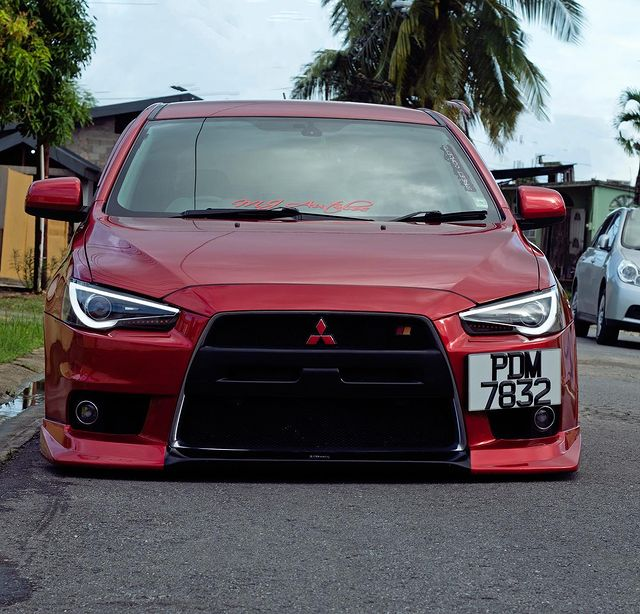License-Plate: (466, 353, 559, 410)
